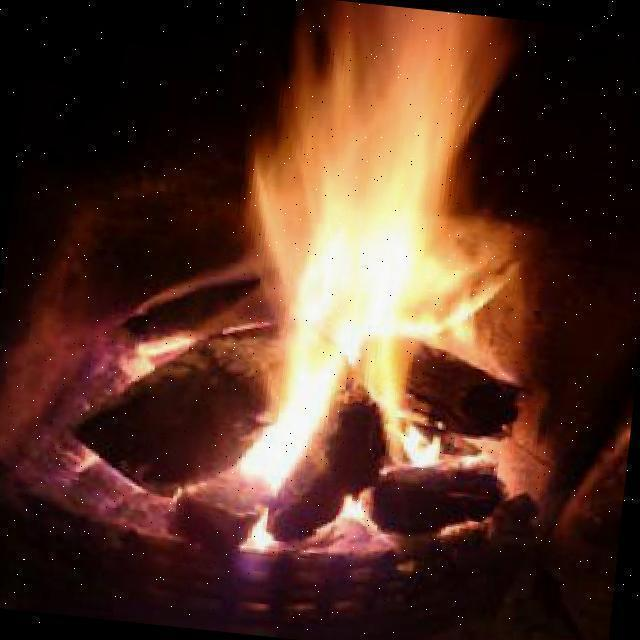Fire: (113, 0, 556, 555)
